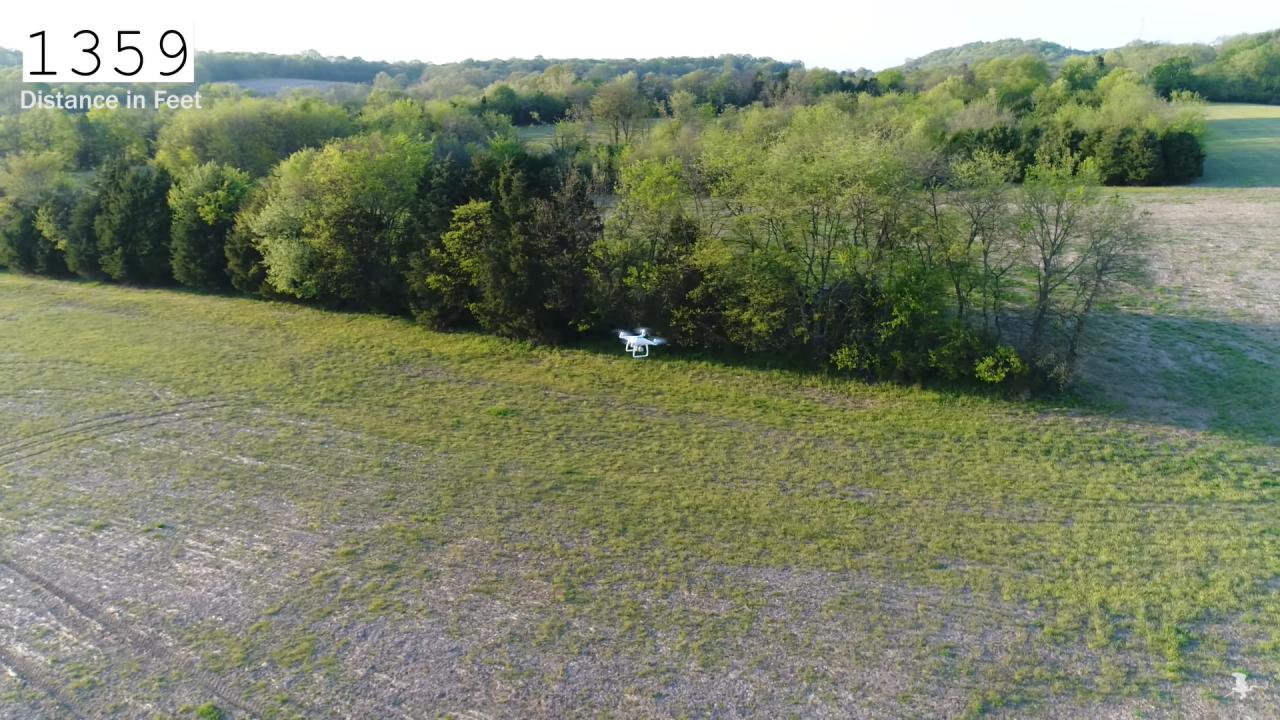Drone: (605, 314, 676, 366)
